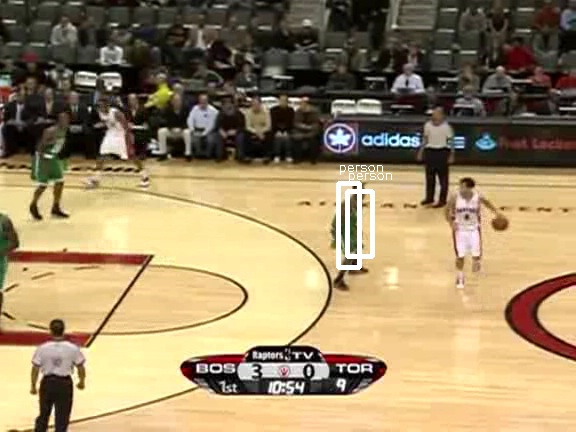person: (332, 188, 366, 269), (331, 188, 365, 269), (333, 188, 367, 269), (332, 187, 366, 268), (332, 189, 366, 270)
target_negative: (19, 129, 475, 249), (238, 266, 399, 419), (41, 388, 343, 395), (569, 44, 571, 355), (258, 303, 557, 305), (172, 360, 276, 362)
